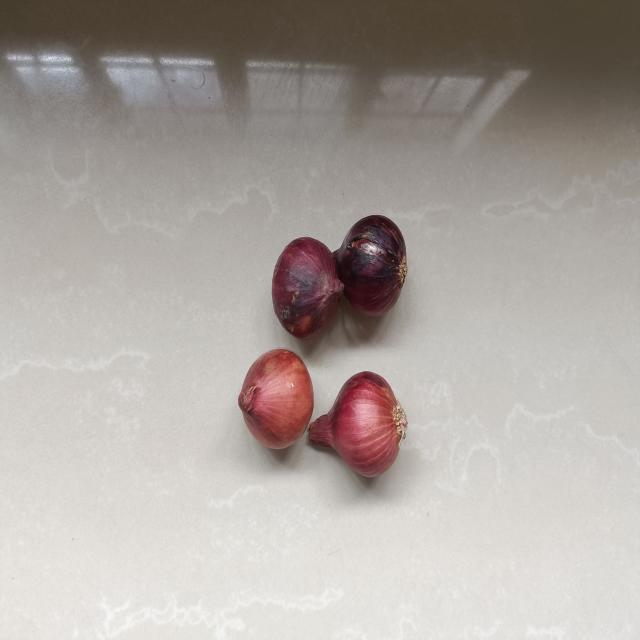onion: (309, 363, 409, 479), (233, 345, 317, 456), (267, 233, 346, 342), (334, 212, 412, 320)
